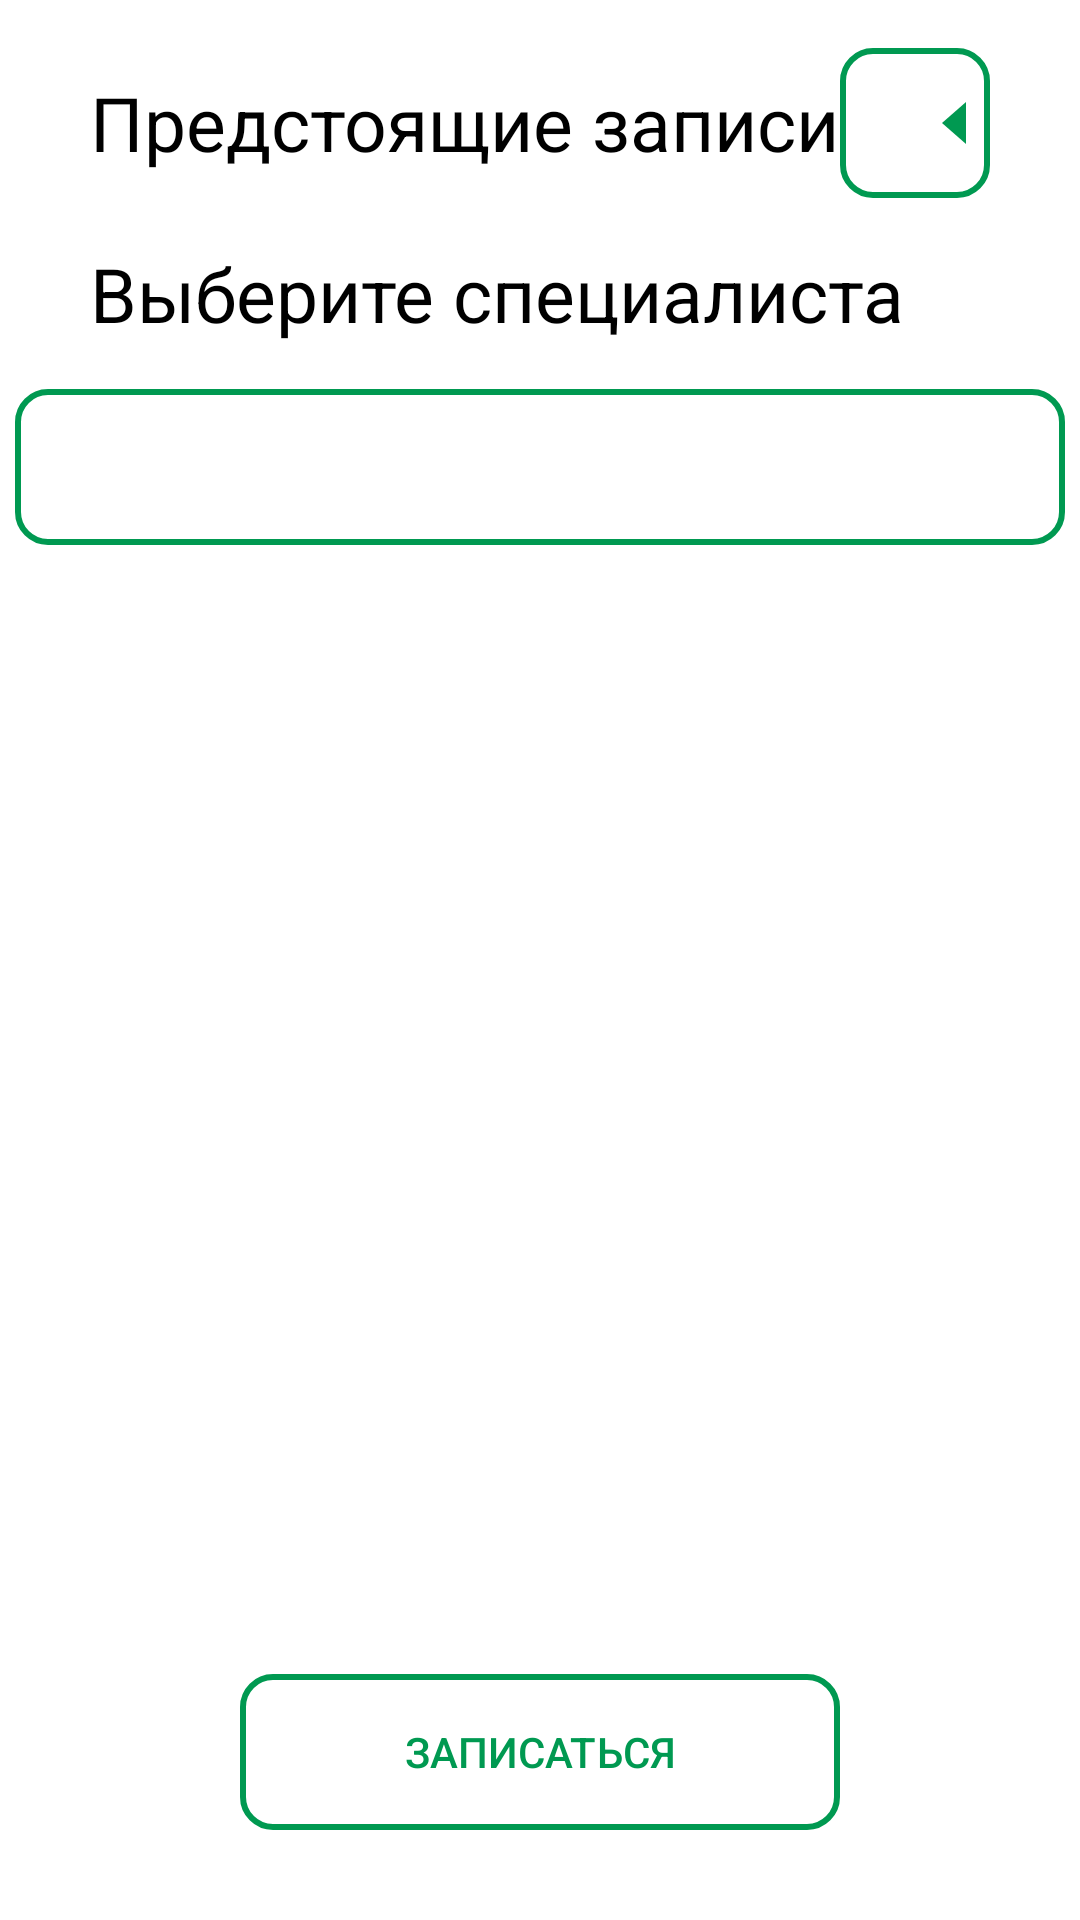

Where to tap for icons on this 1080w x 1920h app screen, as (x,y):
obvodka: (915,123)
